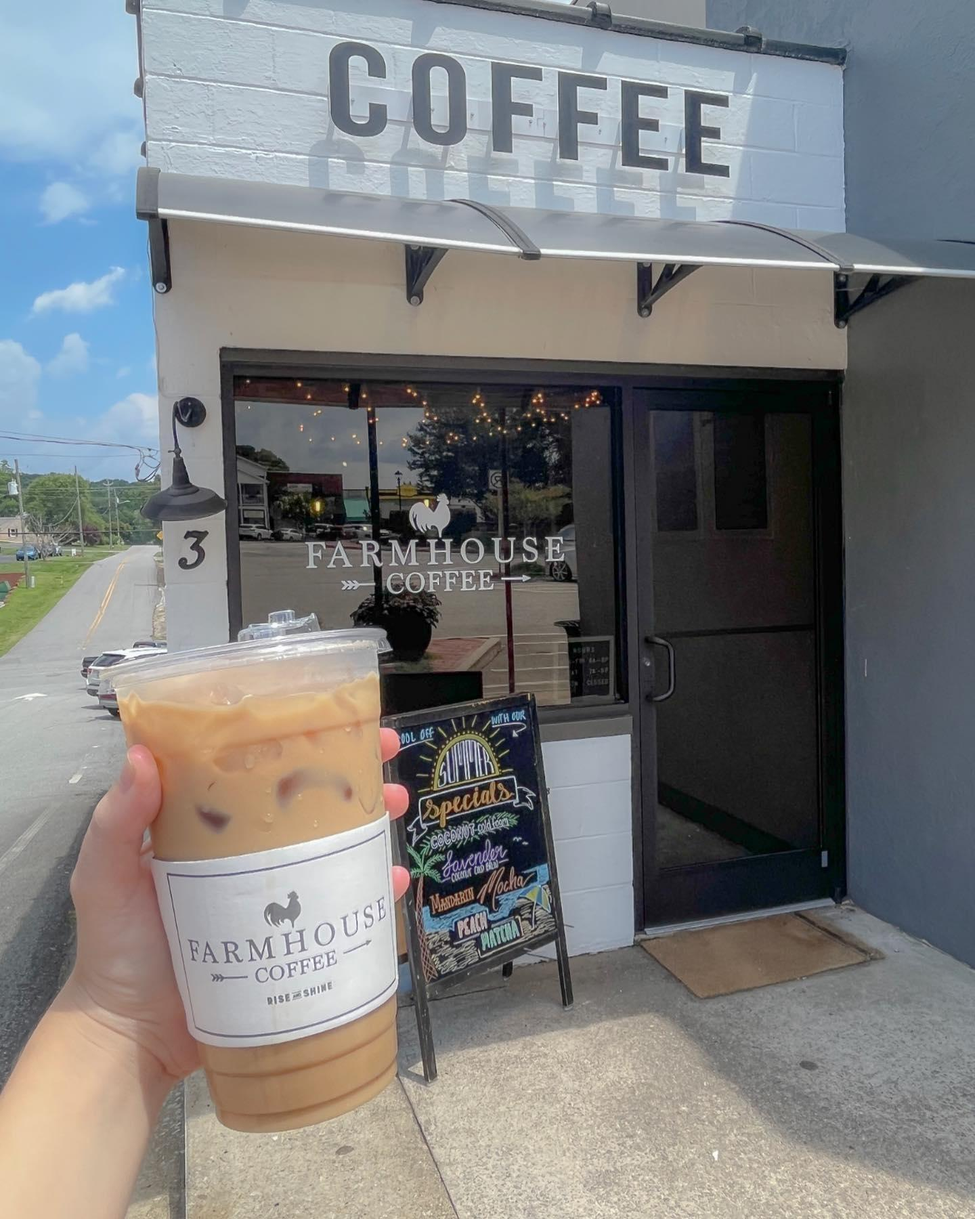cup-disposable: (98, 628, 440, 1145)
